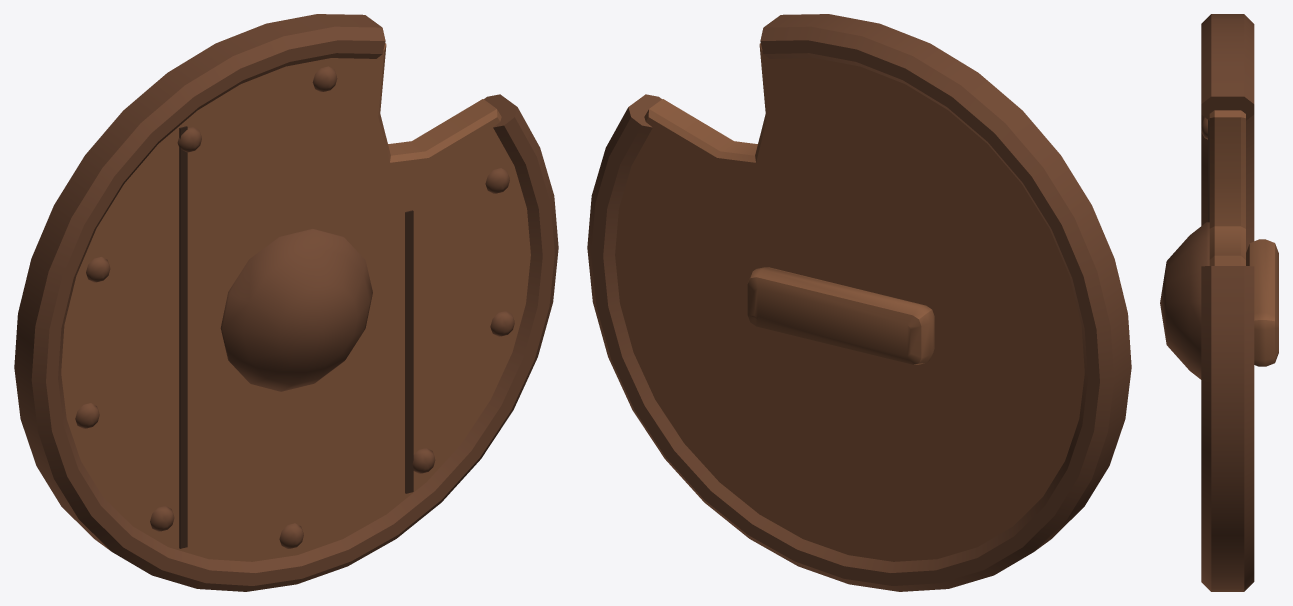
Rendered from Skeleton_Buckler.fbx.
3 renders of one model, left to right at view 1: azimuth 30°, elevation 25°; view 2: azimuth 150°, elevation 25°; view 3: azimuth 270°, elevation 25°, orthographic. The views are drawn at different scales.
Visible parts, largest first — view 1: Skeleton_Buckler_Wood, Skeleton_Buckler_Metal, Skeleton_Buckler_Seams; view 2: Skeleton_Buckler_Wood, Skeleton_Buckler_Metal; view 3: Skeleton_Buckler_Metal, Skeleton_Buckler_Wood, Skeleton_Buckler_Seams.
Part boxes in pixels (box(x1,y1,x2,y2)): Skeleton_Buckler_Wood: box(61, 43, 530, 561); Skeleton_Buckler_Metal: box(14, 14, 558, 591); Skeleton_Buckler_Seams: box(179, 126, 413, 548); Skeleton_Buckler_Wood: box(615, 43, 1084, 561); Skeleton_Buckler_Metal: box(587, 14, 1131, 591); Skeleton_Buckler_Metal: box(1160, 14, 1254, 591); Skeleton_Buckler_Wood: box(1209, 110, 1278, 366); Skeleton_Buckler_Seams: box(1208, 120, 1209, 222).
Size of the model in its own units: 34.99 by 34.98 by 7.2.
